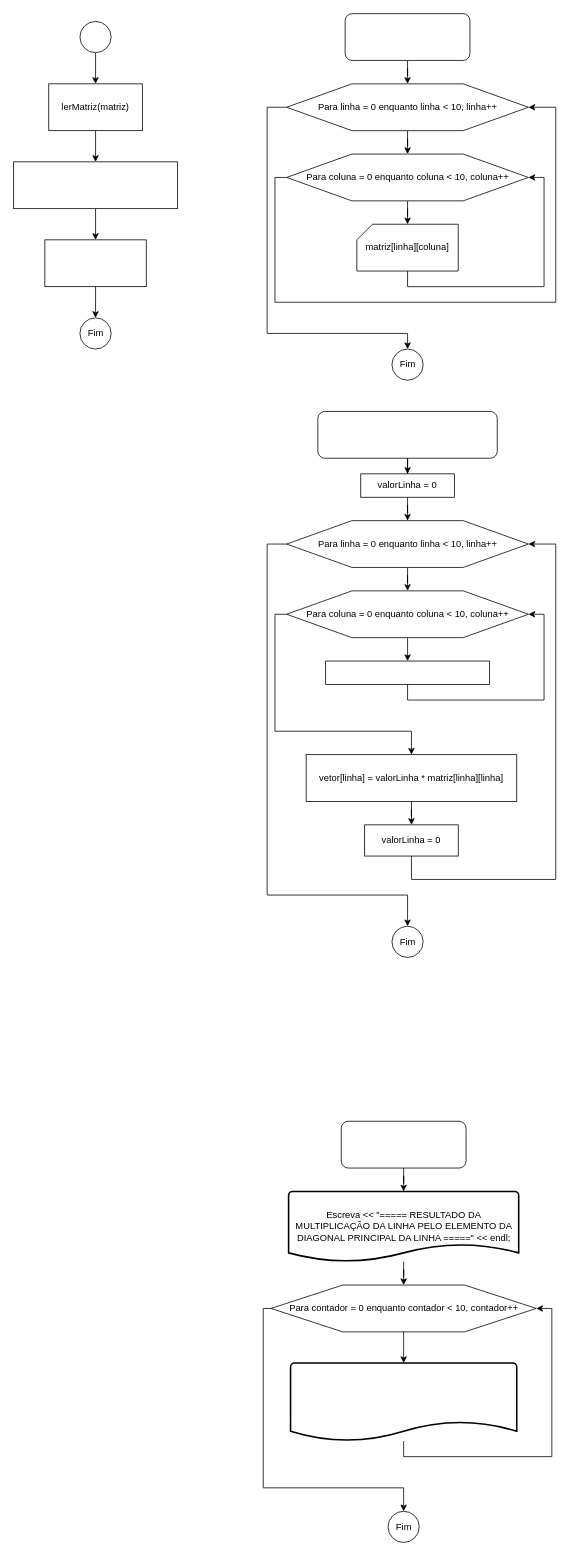
This 576x1556 diagram has some shape labels left out. The centre of each missing label's shape, as x and y in pixels:
Escreva << "Resultado [" << contador << "] = " << vetor[contador] << endl;: [403,1401]
imprimeVetor Entradas: vetor[10] Saídas: não tem: [403,1144]
imprimeVetor(vetor): [95,263]
Início: [95,37]
lerMatriz Entradas: matriz[10][10] Saídas: não tem: [407,36]
multiplicaElementos Entradas: matriz[10][10], vetor[10] Saídas: não tem: [407,434]
multiplicaElementos(matriz, vetor): [95,185]
valorLinha += matriz[linha][coluna]: [407,672]
